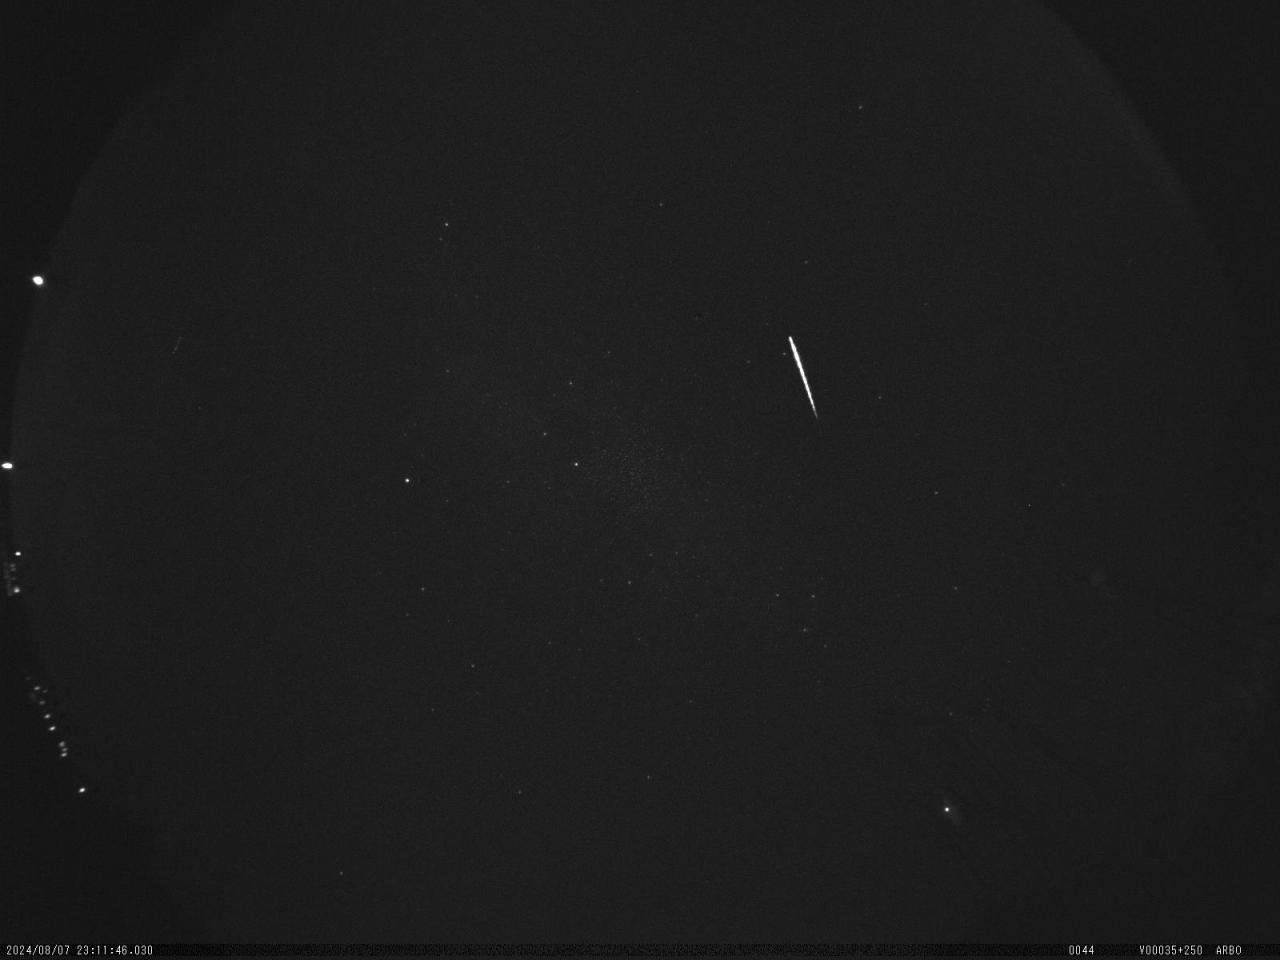Meteor: (786, 334, 820, 420)
